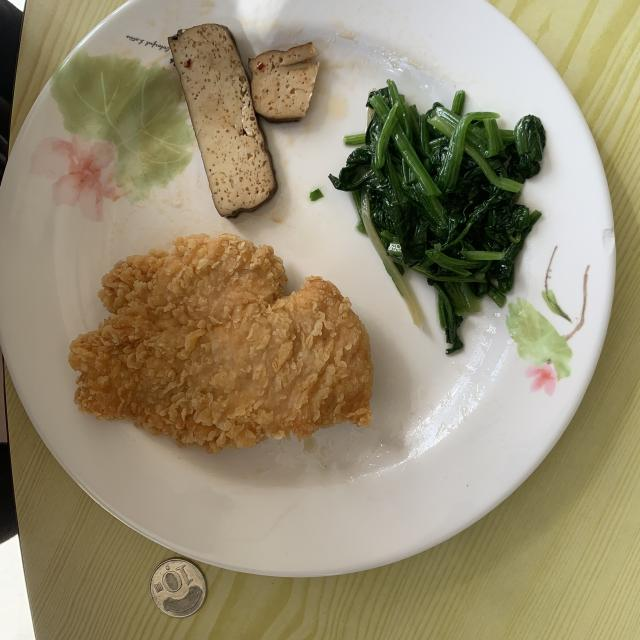coin: (150, 559, 206, 618)
firm tofu: (168, 24, 319, 216)
fried chicken cutlet: (69, 234, 372, 452)
mustard greens: (329, 80, 546, 354)
